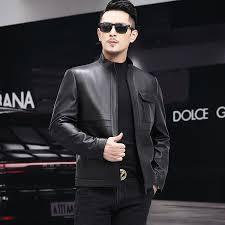jacket: (50, 55, 172, 194)
